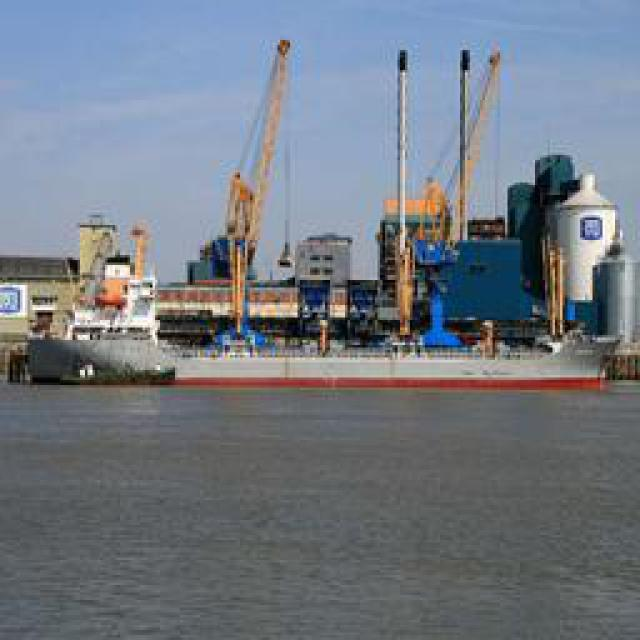Ship: (51, 220, 171, 373)
